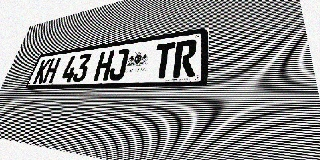3: (71, 53, 92, 82)
4: (60, 55, 80, 83)
H: (93, 50, 115, 81), (42, 57, 61, 83)
J: (108, 48, 130, 81)
K: (33, 59, 51, 84)
R: (173, 39, 197, 78)
T: (152, 42, 176, 79)
